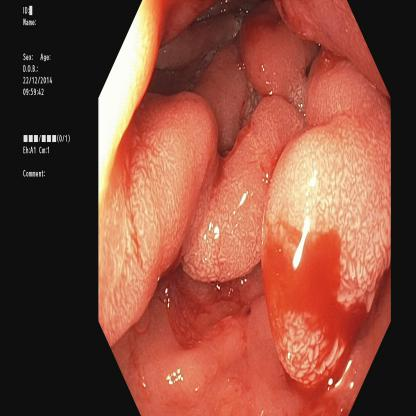Labels: (19, 0, 76, 188)
Polyps: (258, 140, 373, 359), (148, 99, 247, 288), (236, 18, 304, 98)
